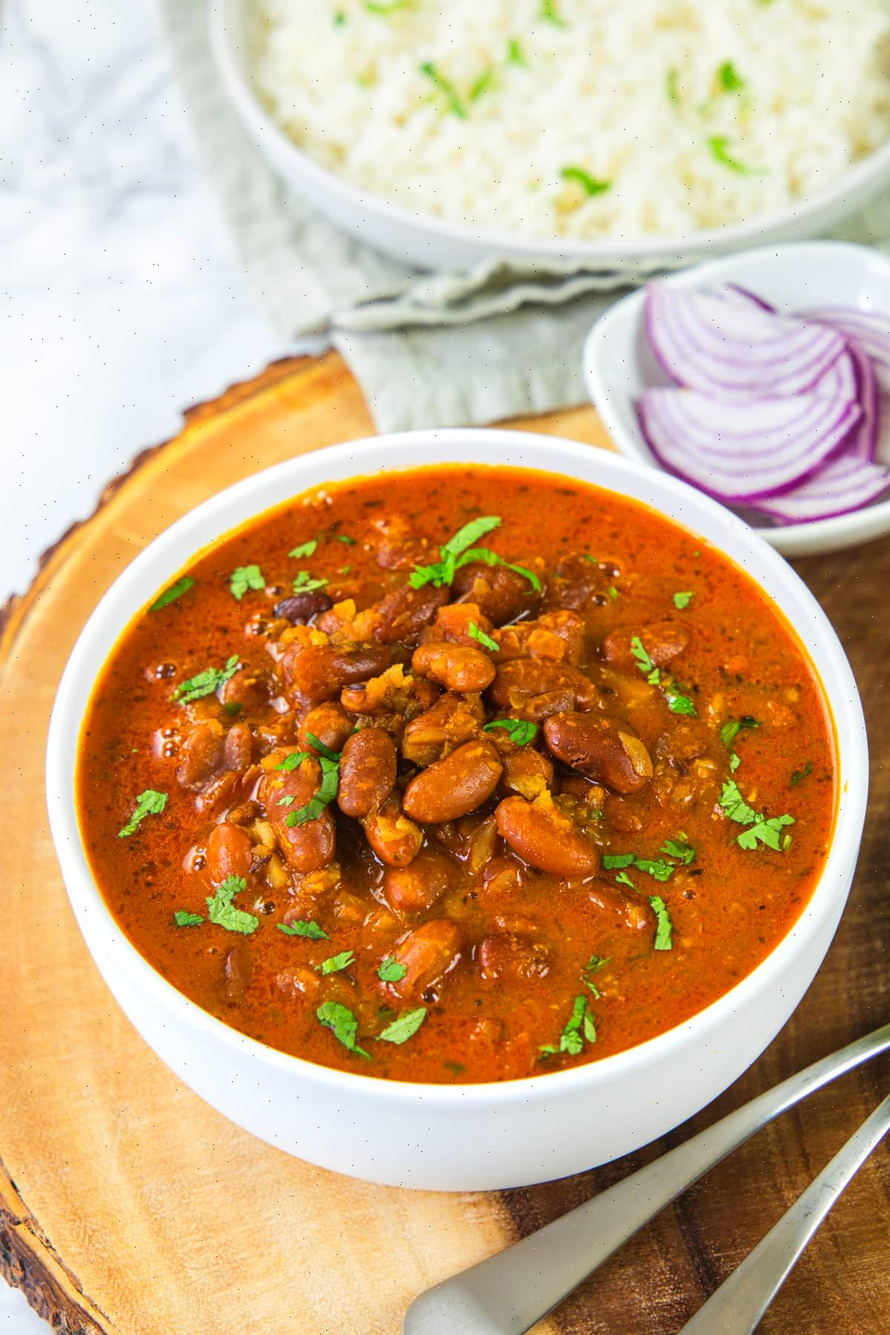rajma: (70, 464, 868, 1153)
rice: (248, 4, 890, 234)
